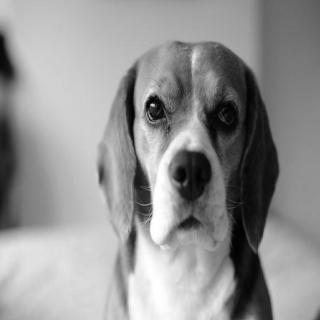dog: (91, 32, 286, 262)
nose: (169, 149, 214, 205)
